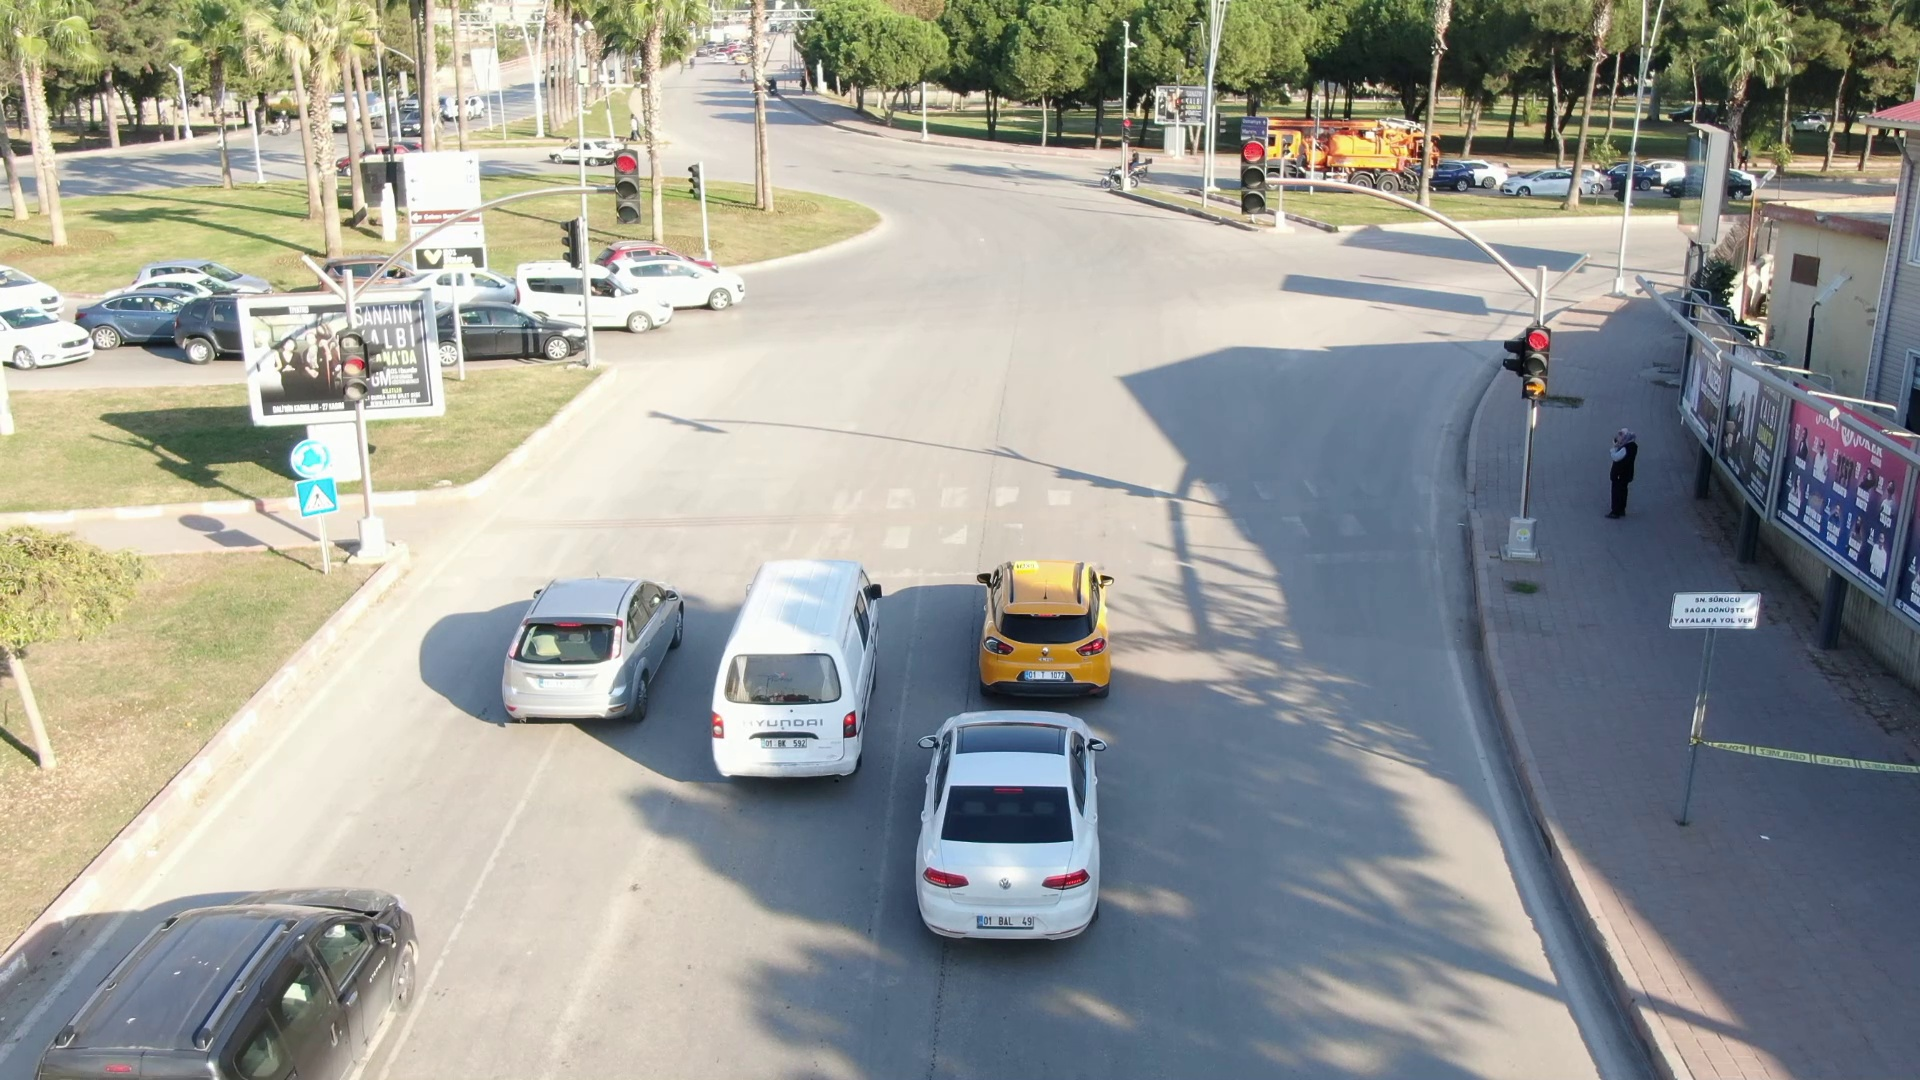car: (874, 717, 1127, 976), (694, 551, 896, 792), (472, 570, 696, 727), (955, 551, 1129, 702)
person: (1590, 421, 1645, 525)
